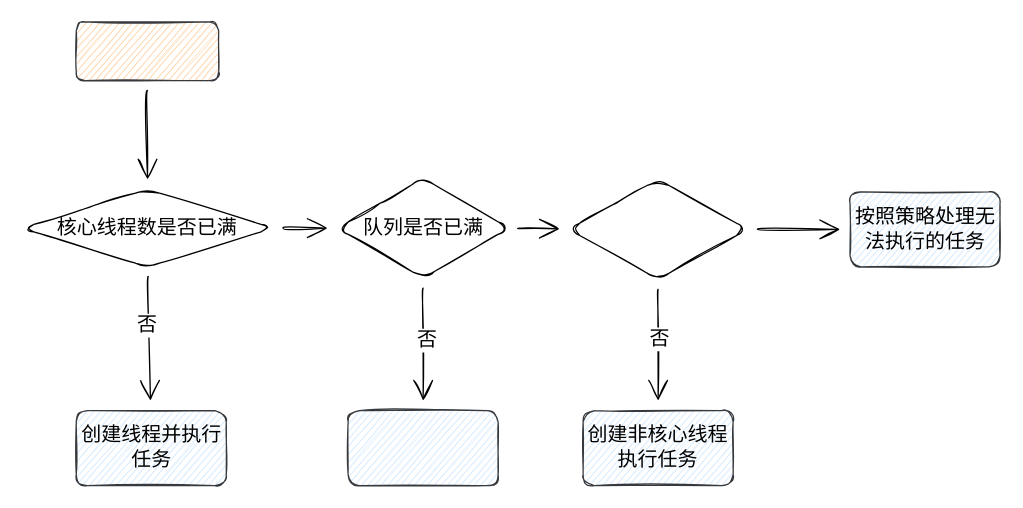
The diagram is 1023 pixels wide and 508 high, and some of its shapes have lost their labels. The centre of each missing label's shape, as x and y in pixels:
任务添加到队列: (x=422, y=447)
提交任务: (x=147, y=51)
线程池是否已满: (x=658, y=228)
